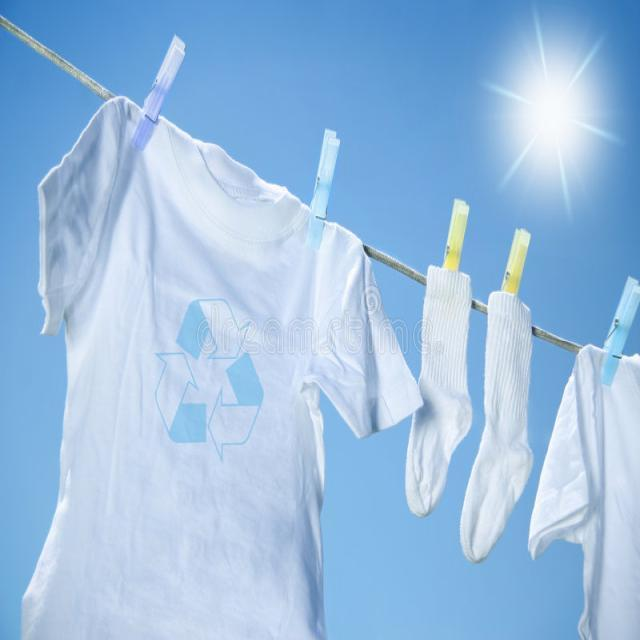clothes: (79, 119, 390, 640)
